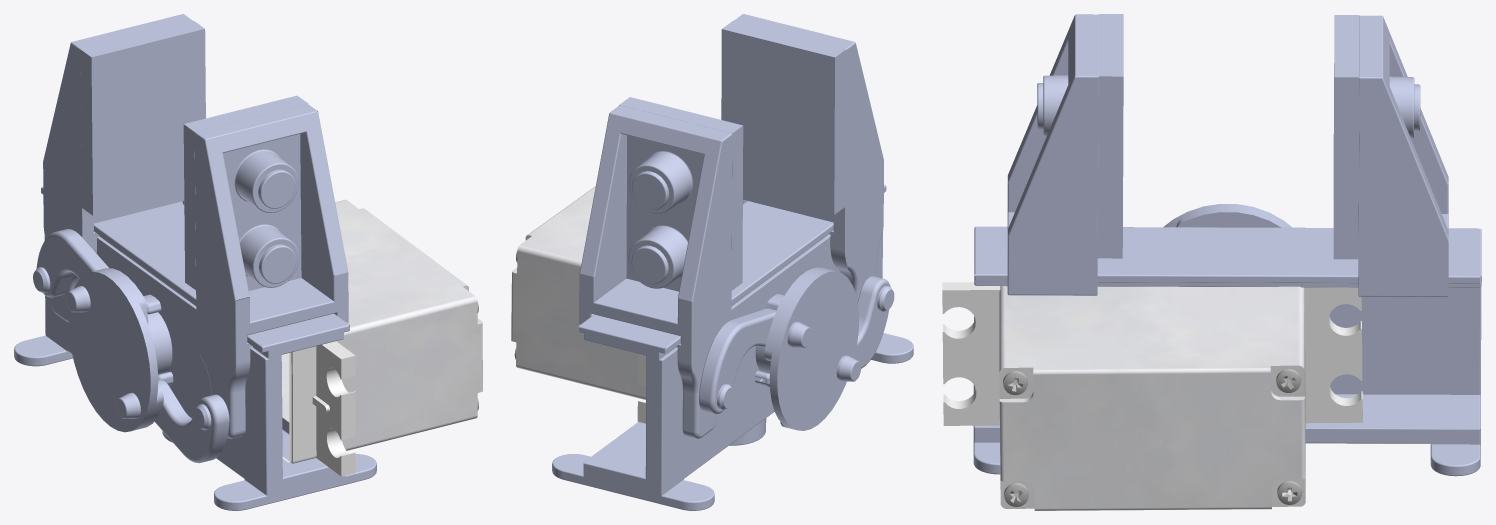
The model's file is grasp.dae.
The picture shows the model from 3 angles, left to right: view 1: azimuth 30°, elevation 25°; view 2: azimuth 150°, elevation 25°; view 3: azimuth 270°, elevation 25°; orthographic projection. The views are drawn at different scales.
Visible parts, largest first — view 1: Actor0; view 2: Actor0; view 3: Actor0.
Part boxes in pixels (bbox=[...]): Actor0: bbox=[14, 14, 482, 510]; Actor0: bbox=[511, 14, 913, 510]; Actor0: bbox=[942, 14, 1481, 510].
Bounding box in the file's own units: 0.0485 × 0.0573 × 0.0684.
4 materials, 1 textured.
